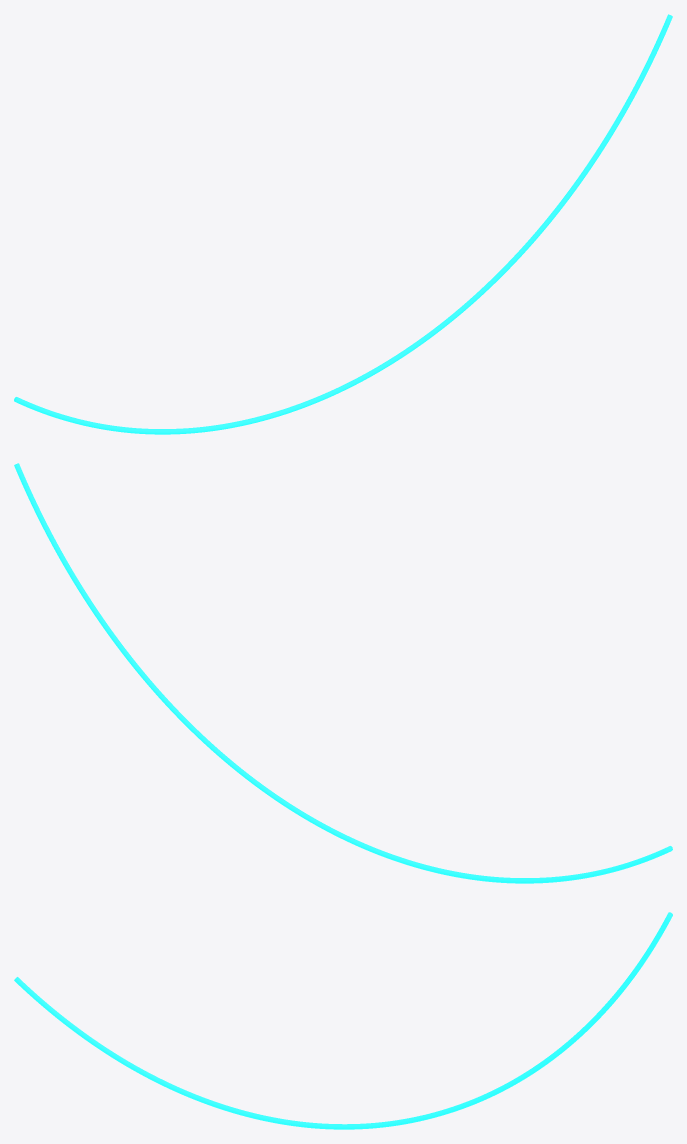
Rendered from SM_RelicSeam_2.fbx.
3 views of the same model, one above another, from view 1: azimuth 30°, elevation 25°; view 2: azimuth 150°, elevation 25°; view 3: azimuth 330°, elevation 25° (orthographic).
Parts seen in each view (by area): view 1: SM_RelicSeam_2.001; view 2: SM_RelicSeam_2.001; view 3: SM_RelicSeam_2.001.
Boxes of the visible parts, x1=… form: SM_RelicSeam_2.001: x1=14, y1=14, x2=672, y2=434; SM_RelicSeam_2.001: x1=14, y1=463, x2=672, y2=883; SM_RelicSeam_2.001: x1=14, y1=912, x2=672, y2=1129.
Size of the model in its own units: 1753 by 12.36 by 781.
